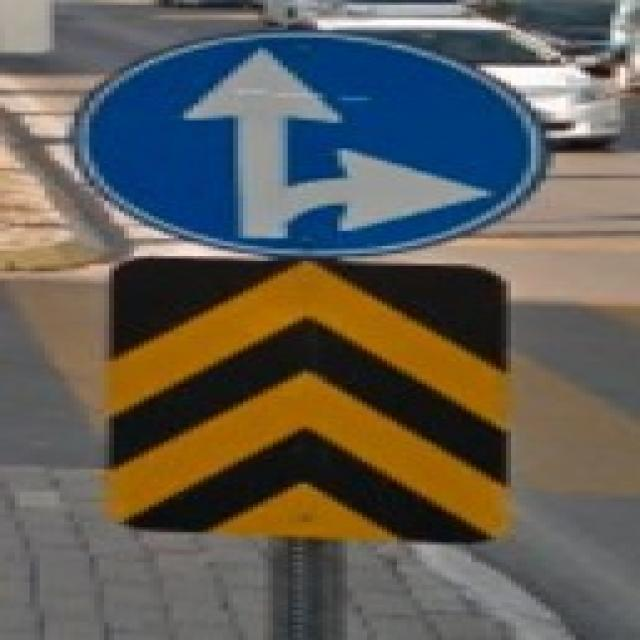Straight or Right: (88, 36, 534, 255)
